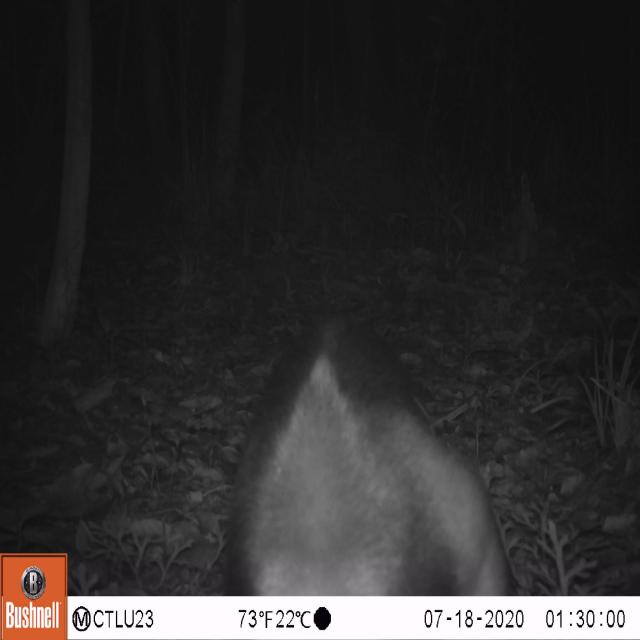Southern Tamandua: (189, 283, 519, 598)
